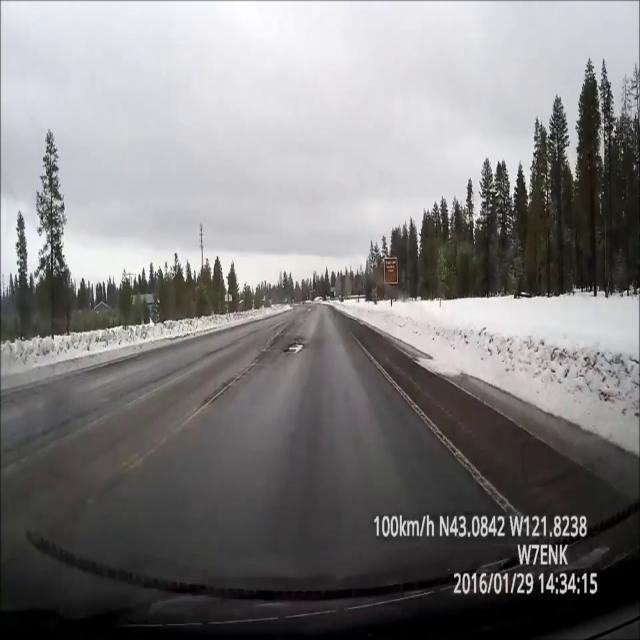pothole: (281, 330, 313, 364)
